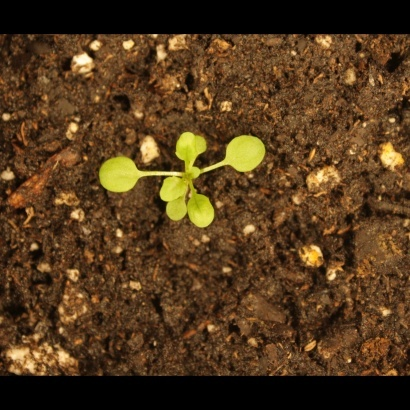leaf: (89, 148, 142, 202), (220, 130, 272, 182), (171, 128, 210, 165), (187, 191, 220, 230), (161, 171, 190, 205), (163, 194, 189, 227), (179, 164, 205, 188)
